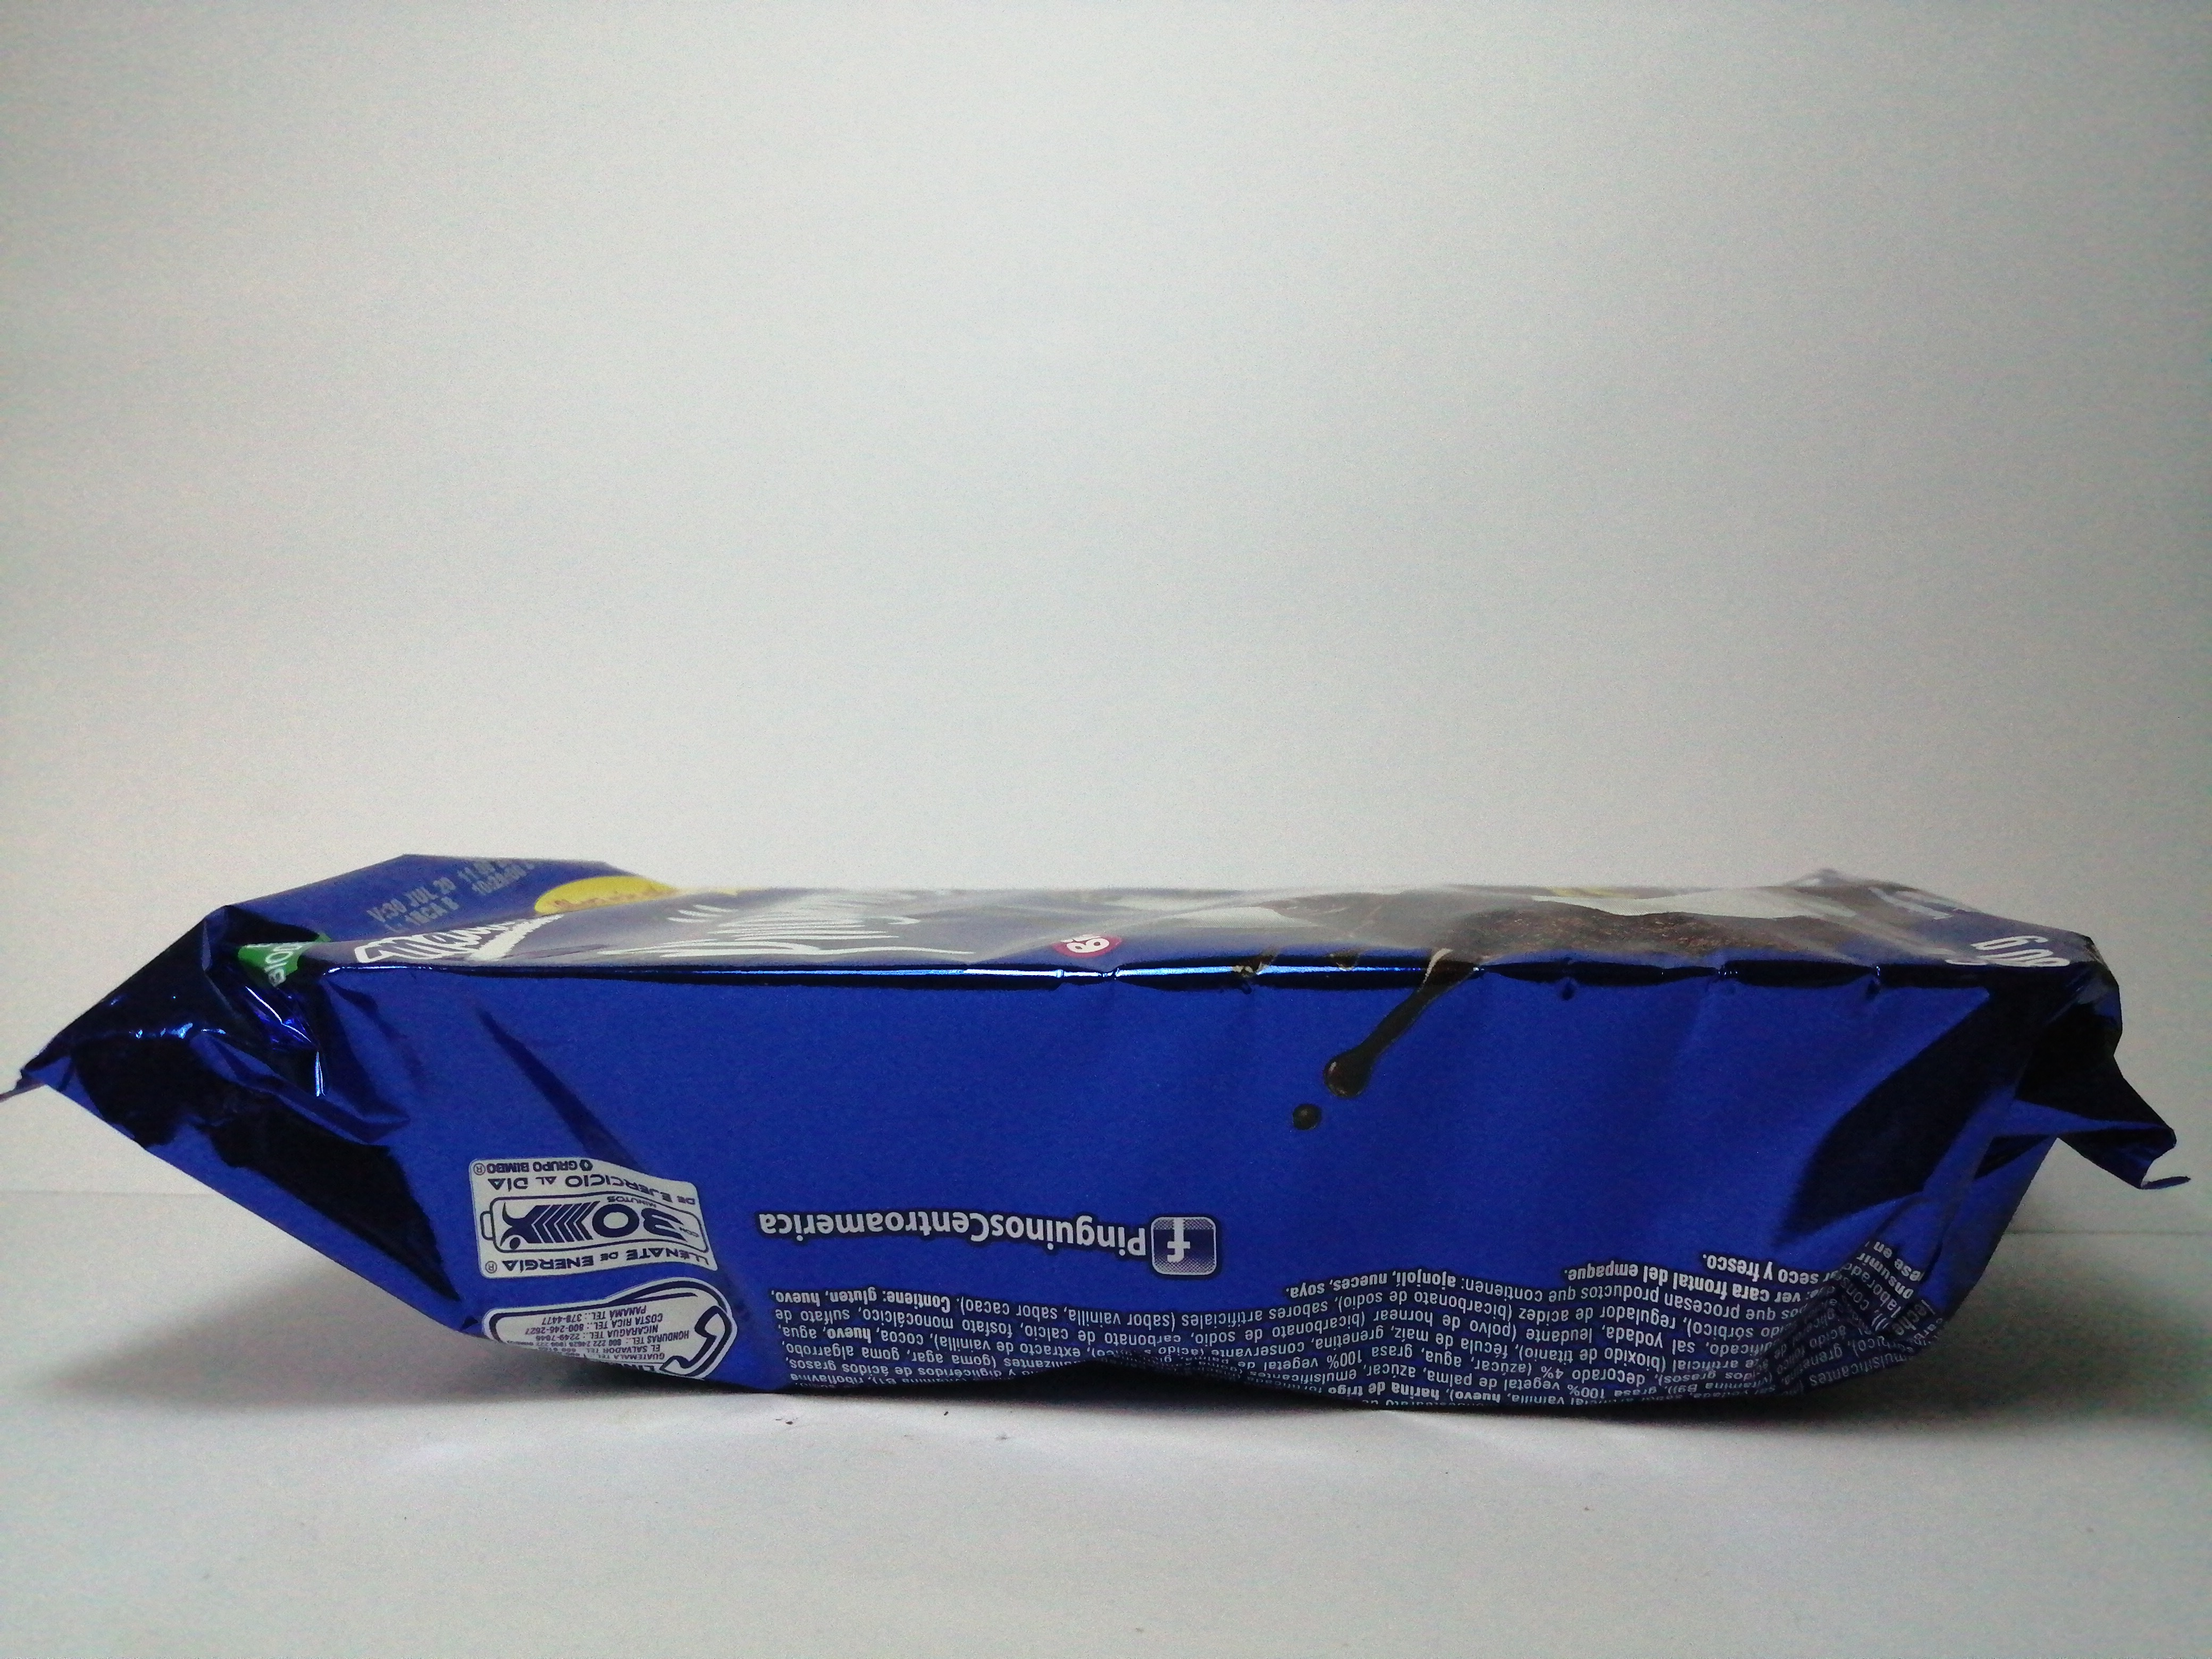pinguino: (12, 863, 2175, 1403)
